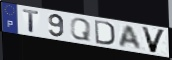9: (48, 14, 65, 38)
A: (118, 24, 143, 51)
D: (94, 19, 116, 46)
Q: (70, 18, 93, 42)
T: (22, 8, 41, 34)
V: (140, 25, 167, 54)
